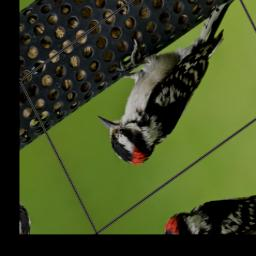Woodpecker: (76, 0, 256, 178)
